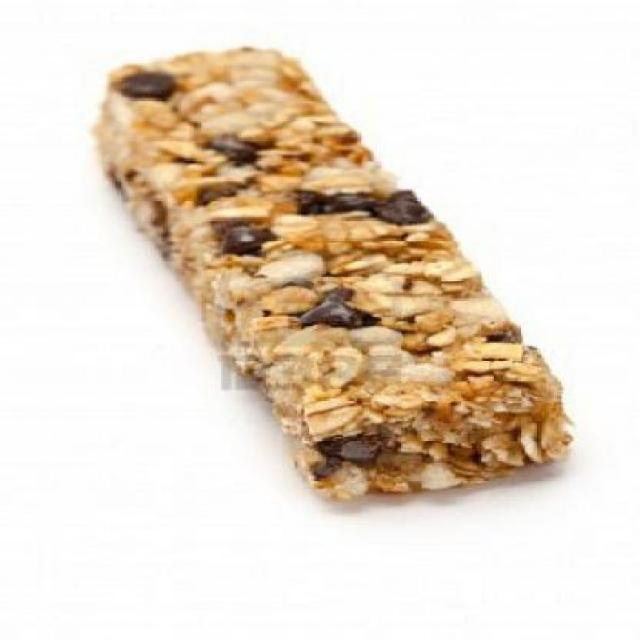Cereal bar packaged: (93, 44, 578, 507)
